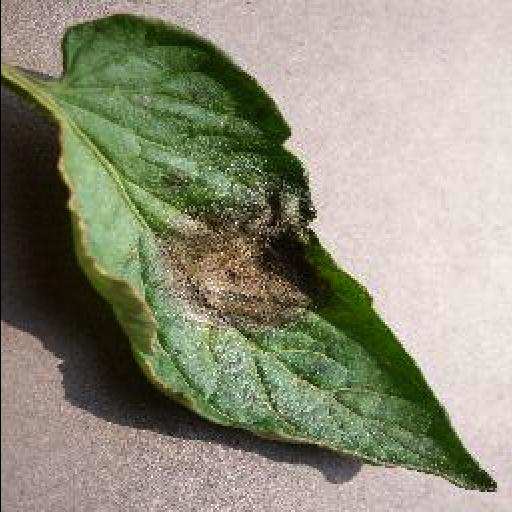disease_tomato: (46, 14, 502, 494)
